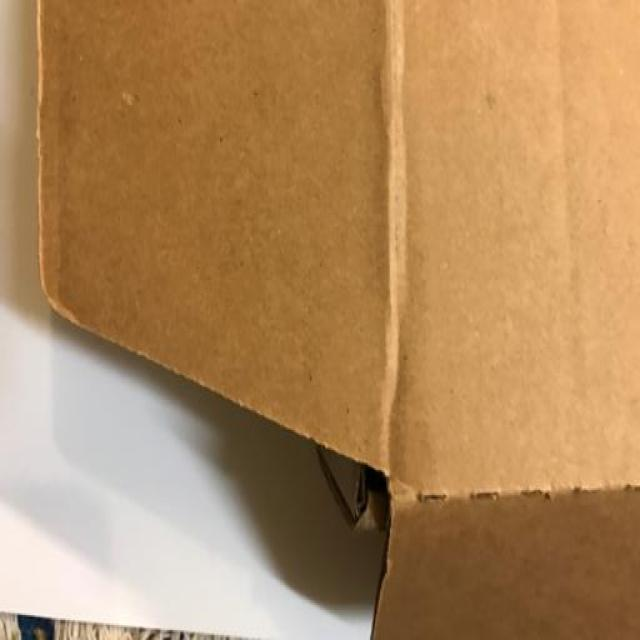cardboard: (37, 2, 639, 637)
